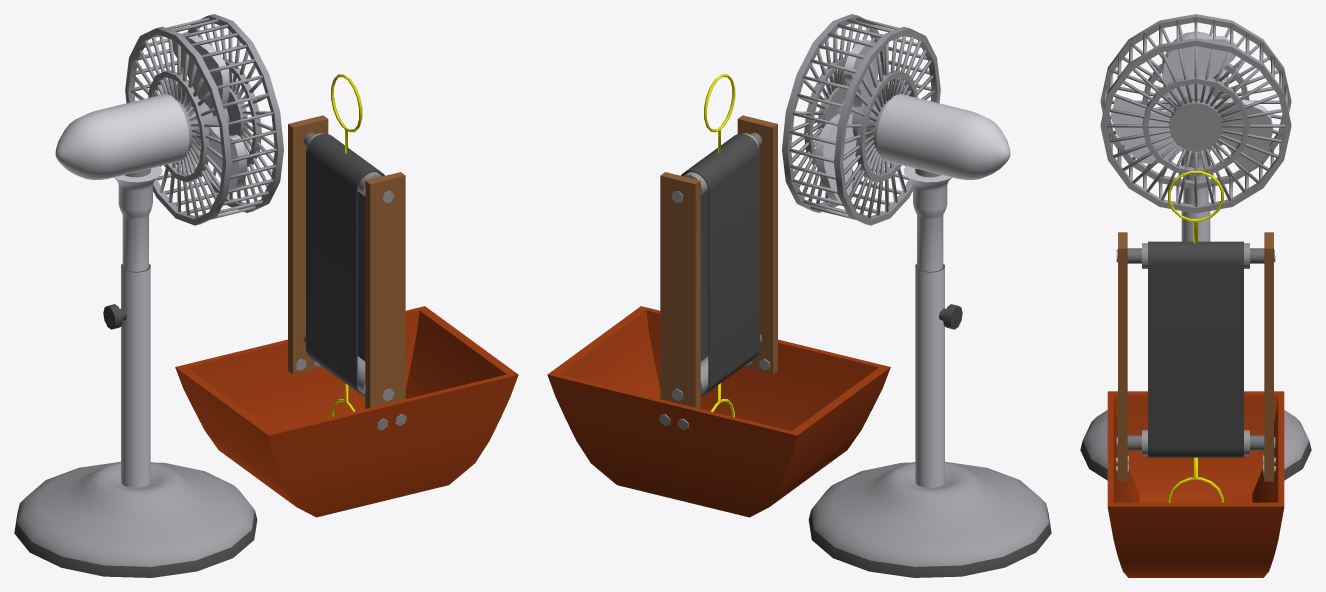
File: Air_smooth_pivotchange.fbx
3 views of the same model, side by side, from view 1: azimuth 30°, elevation 25°; view 2: azimuth 150°, elevation 25°; view 3: azimuth 270°, elevation 25° (orthographic). The views are drawn at different scales.
Visible parts, largest first — view 1: Bowl, Feet, Treadmill, WoodplankLeft, Head, WoodplankRight, ProtectionBack, ProtectionOuter, ProtectionBackOuter, Rotorblades, ProtectionFrontOuter, ProtectionFront (+2 smaller); view 2: Bowl, Feet, Treadmill, WoodplankRight, Head, WoodplankLeft, ProtectionBack, ProtectionOuter, ProtectionBackOuter, Rotorblades, ProtectionFrontOuter, ProtectionFront (+2 smaller); view 3: Bowl, Treadmill, ProtectionFront, Rotorblades, ProtectionFrontOuter, Feet, ProtectionBackOuter, WoodplankLeft, WoodplankRight, ProtectionFrontMiddle, ProtectionFrontInner, ProtectionOuter (+6 smaller).
Boxes of the visible parts, x1=… form: Bowl: x1=175, y1=306, x2=518, y2=517; Feet: x1=14, y1=166, x2=257, y2=577; Treadmill: x1=306, y1=133, x2=384, y2=396; WoodplankLeft: x1=365, y1=172, x2=405, y2=408; Head: x1=55, y1=94, x2=189, y2=179; WoodplankRight: x1=288, y1=115, x2=328, y2=374; ProtectionBack: x1=130, y1=35, x2=222, y2=218; ProtectionOuter: x1=134, y1=17, x2=276, y2=219; ProtectionBackOuter: x1=125, y1=26, x2=231, y2=225; Rotorblades: x1=172, y1=32, x2=246, y2=189; ProtectionFrontOuter: x1=181, y1=14, x2=283, y2=212; ProtectionFront: x1=186, y1=23, x2=274, y2=203; Bowl: x1=547, y1=306, x2=890, y2=517; Feet: x1=808, y1=166, x2=1051, y2=577; Treadmill: x1=681, y1=133, x2=759, y2=396; WoodplankRight: x1=660, y1=172, x2=700, y2=408; Head: x1=876, y1=94, x2=1010, y2=179; WoodplankLeft: x1=737, y1=115, x2=777, y2=374; ProtectionBack: x1=843, y1=35, x2=935, y2=218; ProtectionOuter: x1=789, y1=17, x2=931, y2=219; ProtectionBackOuter: x1=834, y1=26, x2=940, y2=225; Rotorblades: x1=815, y1=39, x2=916, y2=201; ProtectionFrontOuter: x1=782, y1=14, x2=884, y2=212; ProtectionFront: x1=791, y1=23, x2=881, y2=203; Bowl: x1=1107, y1=391, x2=1284, y2=577; Treadmill: x1=1148, y1=241, x2=1243, y2=457; ProtectionFront: x1=1106, y1=46, x2=1285, y2=207; Rotorblades: x1=1110, y1=36, x2=1272, y2=170; ProtectionFrontOuter: x1=1100, y1=38, x2=1291, y2=213; Feet: x1=1080, y1=149, x2=1311, y2=480; ProtectionBackOuter: x1=1100, y1=14, x2=1291, y2=189; WoodplankLeft: x1=1118, y1=232, x2=1127, y2=481; WoodplankRight: x1=1264, y1=232, x2=1273, y2=481; ProtectionFrontMiddle: x1=1142, y1=76, x2=1249, y2=175; ProtectionFrontInner: x1=1169, y1=100, x2=1222, y2=151; ProtectionOuter: x1=1102, y1=18, x2=1289, y2=204.
Size of the model in its own units: 375 by 390 by 180.
